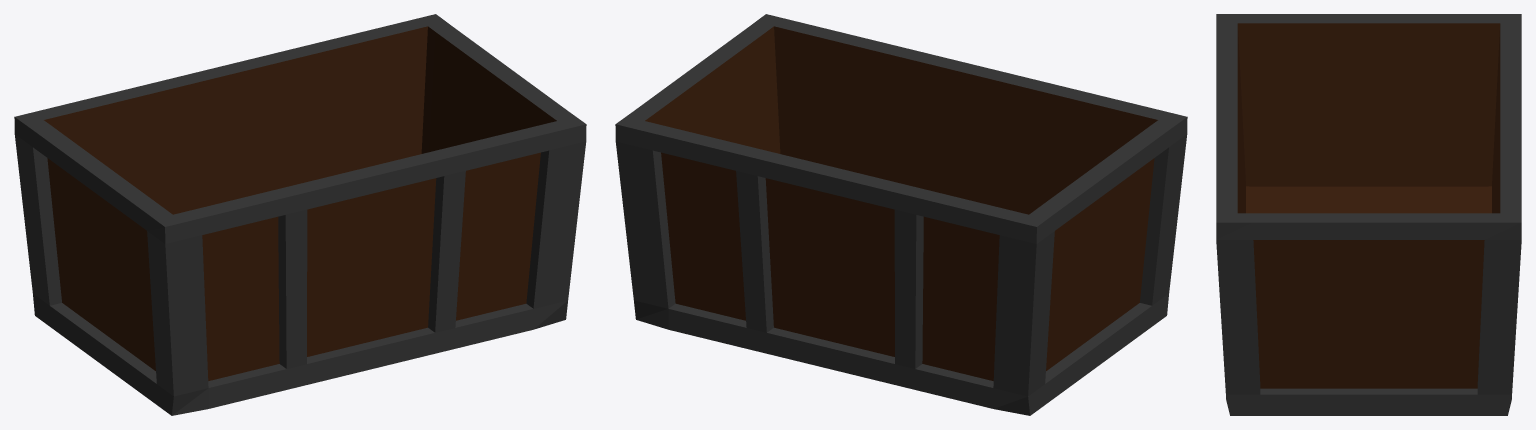
Rendered from Chest Bottom.fbx.
The picture shows the model from 3 angles, left to right: view 1: azimuth 30°, elevation 25°; view 2: azimuth 150°, elevation 25°; view 3: azimuth 270°, elevation 25°; orthographic projection.
Visible parts, largest first — view 1: Box011; view 2: Box011; view 3: Box011.
Part boxes in pixels (bbox=[...]): Box011: bbox=[14, 14, 586, 415]; Box011: bbox=[615, 14, 1187, 415]; Box011: bbox=[1216, 14, 1521, 415].
Size of the model in its own units: 64.78 by 40.1 by 28.97.
